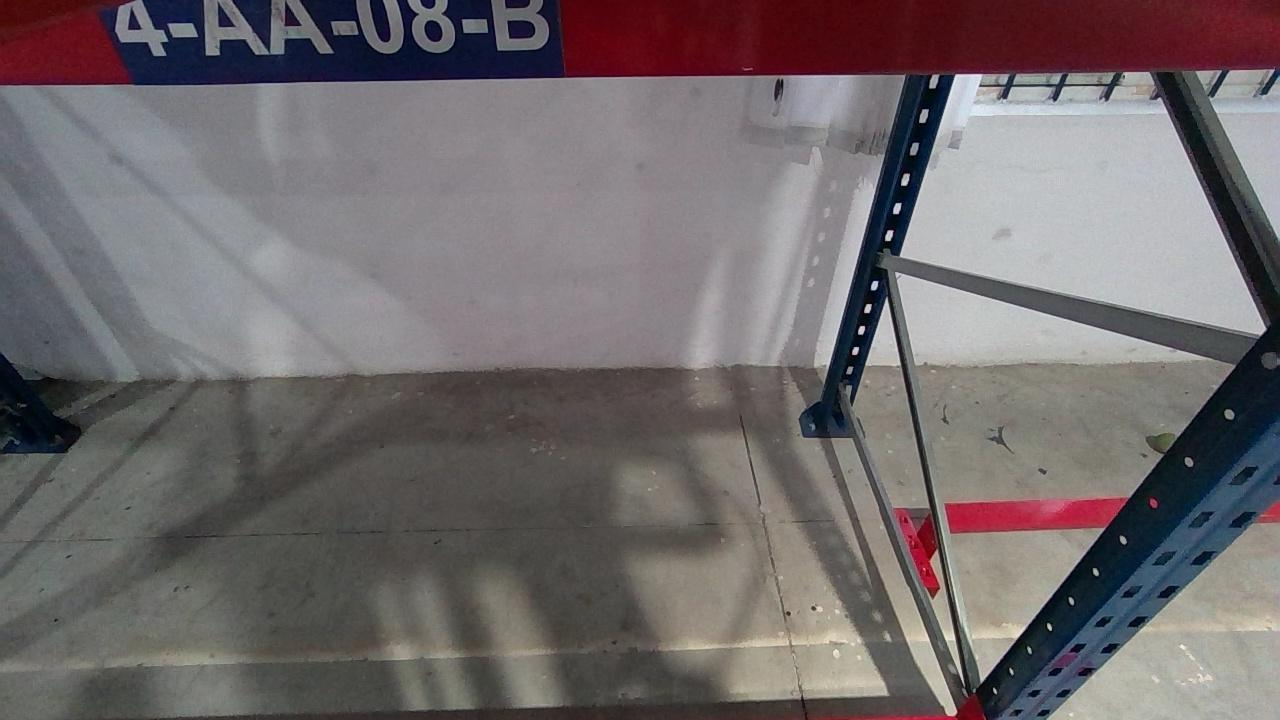h_rack: (0, 0, 1280, 83)
